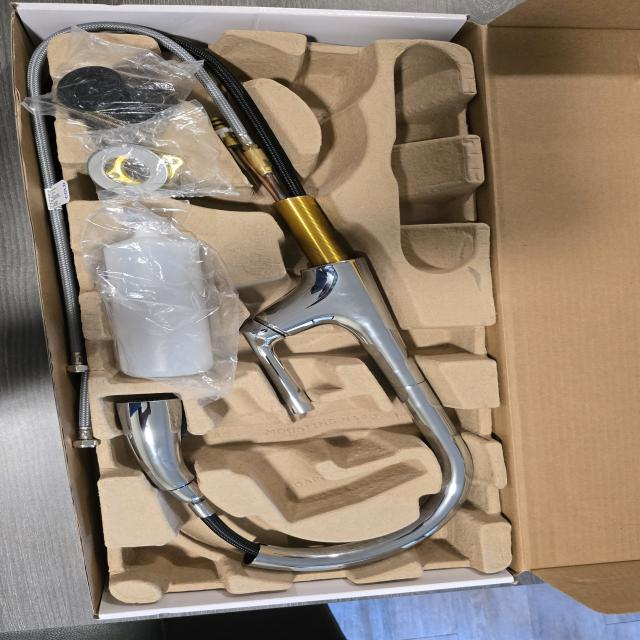1: (118, 32, 477, 573)
2m: (196, 390, 426, 523)
3: (104, 209, 217, 377)
4m: (391, 40, 477, 271)
5m: (298, 57, 370, 113)
6: (70, 100, 243, 203)
7o: (18, 23, 209, 147)
